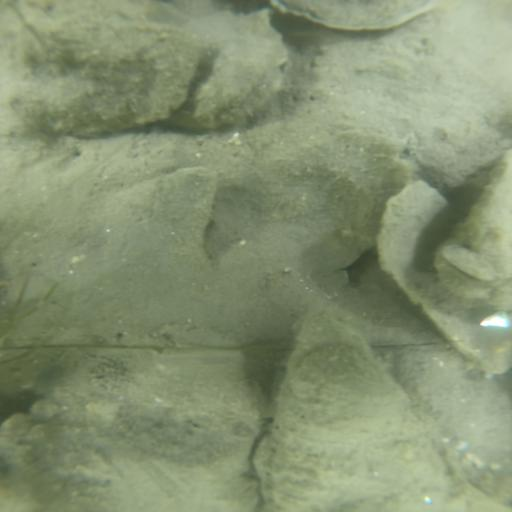Oyster-Closed: (1, 345, 264, 512), (8, 2, 199, 134), (193, 25, 285, 130), (441, 152, 511, 288)
Oyster-Open: (264, 327, 448, 512)
